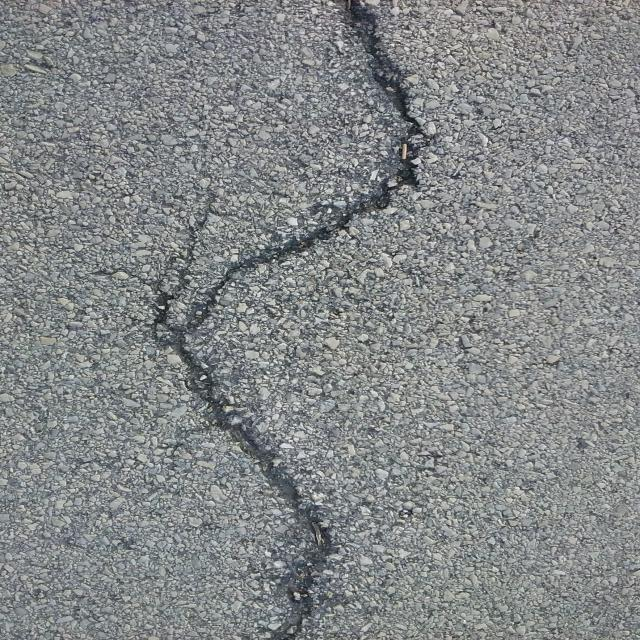Crack: (89, 0, 432, 640)
